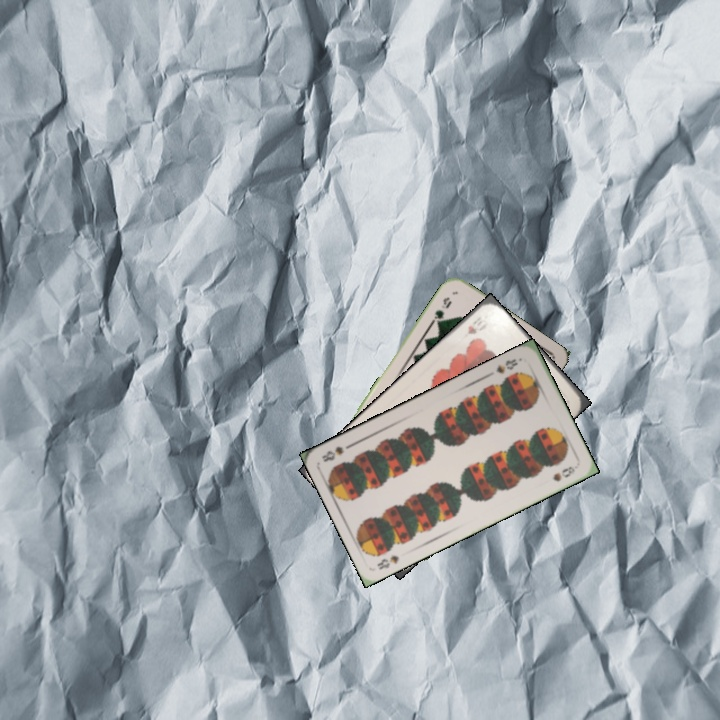G9: (427, 293, 454, 328)
H10: (463, 313, 491, 337)
S8: (492, 354, 520, 376), (373, 551, 401, 572)
